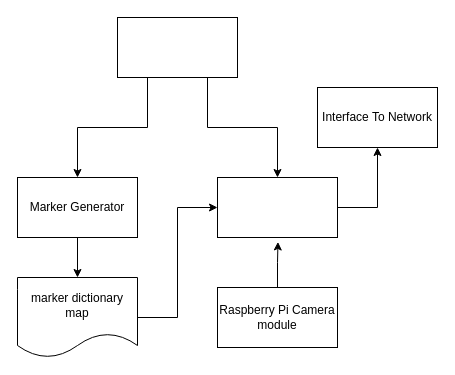
This 455x375 diagram has some shape labels left out. Each missing label, with the centre of its shape:
"Detector" goes at pixel 277 207.
"marker_dict Class" goes at pixel 177 47.
